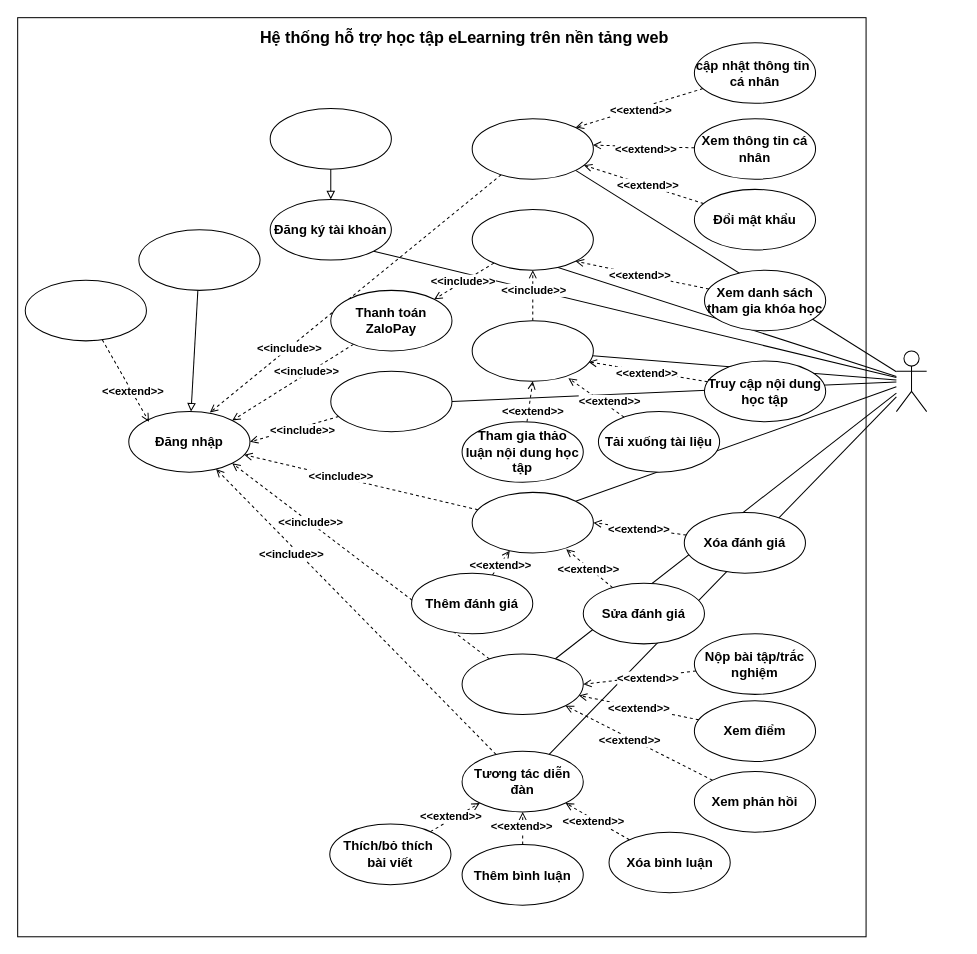
The diagram is 977 pixels wide and 954 high, and some of its shapes have lost their labels. Each missing label, with the box of its shape:
Làm bài tập/bài trắc nghiệm: (461, 653, 583, 715)
Người học tự do: (895, 350, 927, 412)
Quên mật khẩu: (24, 279, 146, 341)
Quản lý hồ sơ cá nhân: (471, 118, 593, 179)
Tham gia khóa học: (471, 320, 593, 381)
Tương tác với chatbot: (330, 370, 452, 432)
Đánh giá khóa học: (471, 491, 593, 553)
Đăng ký bằng google: (269, 108, 391, 169)
Đăng ký khóa học: (471, 209, 593, 270)
Đăng nhặp bằng google: (138, 229, 260, 290)
